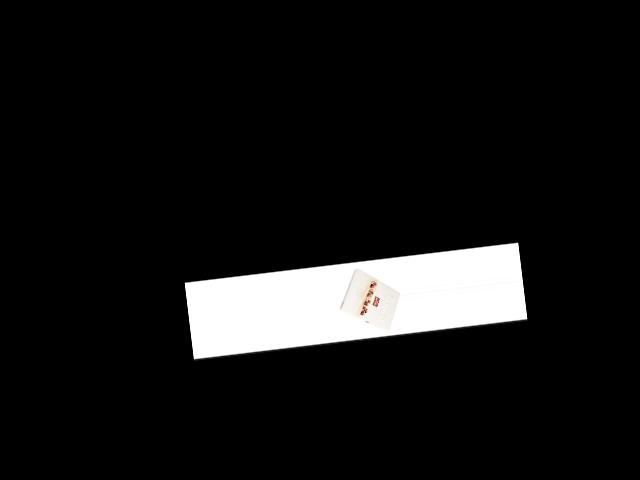chocolate: (333, 258, 403, 336)
